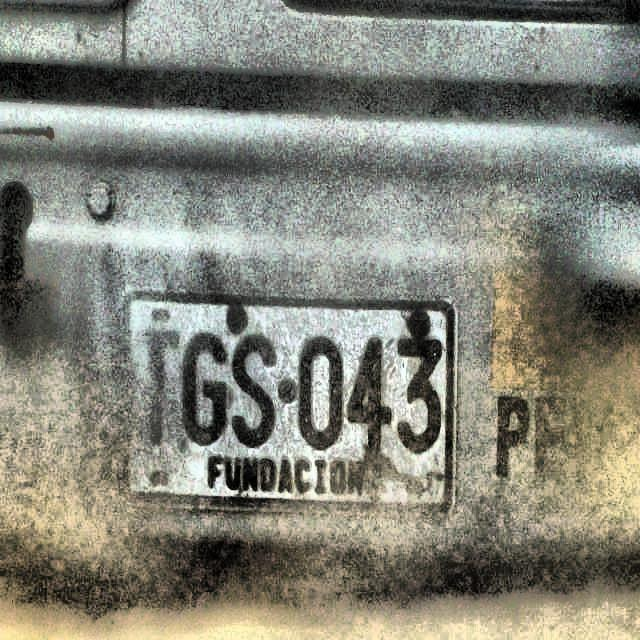plate: (127, 298, 451, 506)
